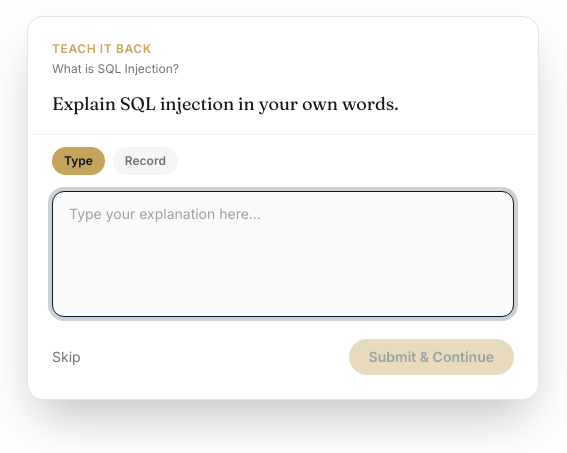
Test: TeachBackModal › shows an encouraging message after scoring — never a numeric score or rubric breakdown
The width and height of the screenshot is (567, 453).
Type "It terminates the query early." into the text box with placeholder "Type your explanation here…".
click(283, 254); type("It terminates the query early.")  # box [52,191,514,317]
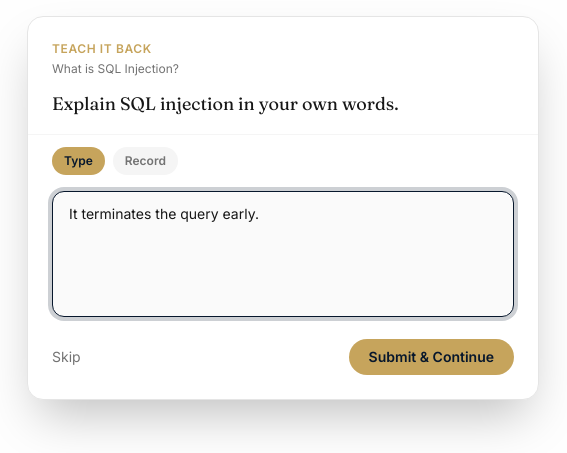
Click the button "Submit & Continue".
click(431, 357)  # box [349,339,514,375]
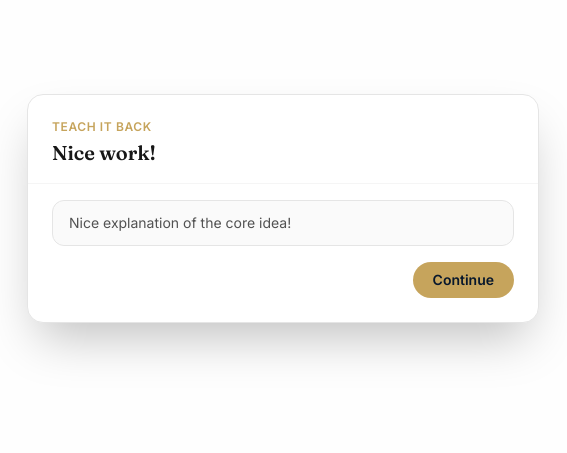
Expected: the text "Nice explanation of the core idea!" is shown, [52,200,514,246]
